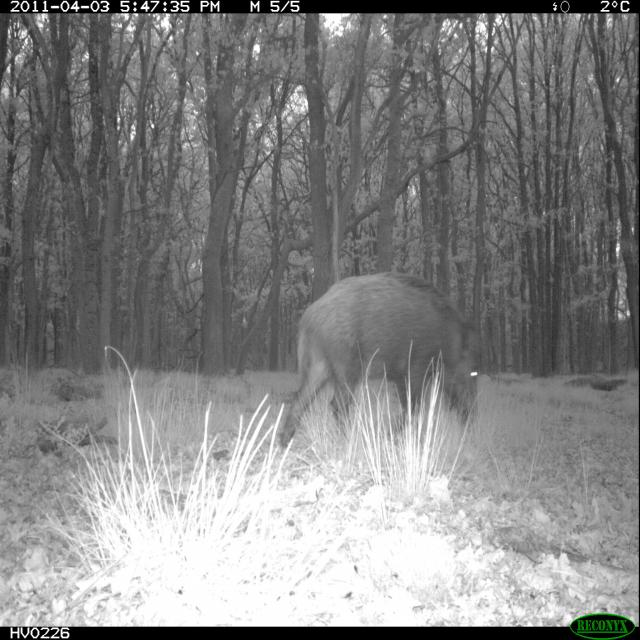boar: (235, 233, 521, 463)
